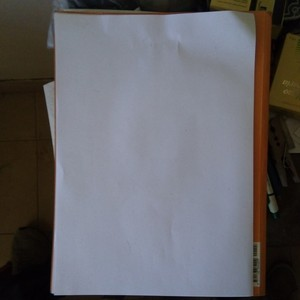base: (56, 15, 252, 297)
